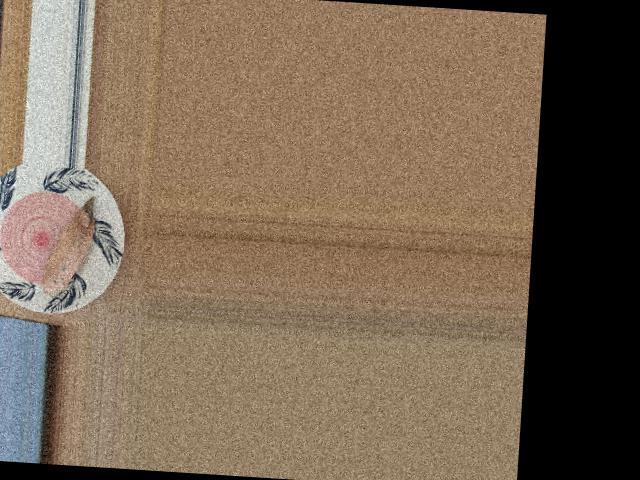sweet_potato: (39, 204, 96, 292)
